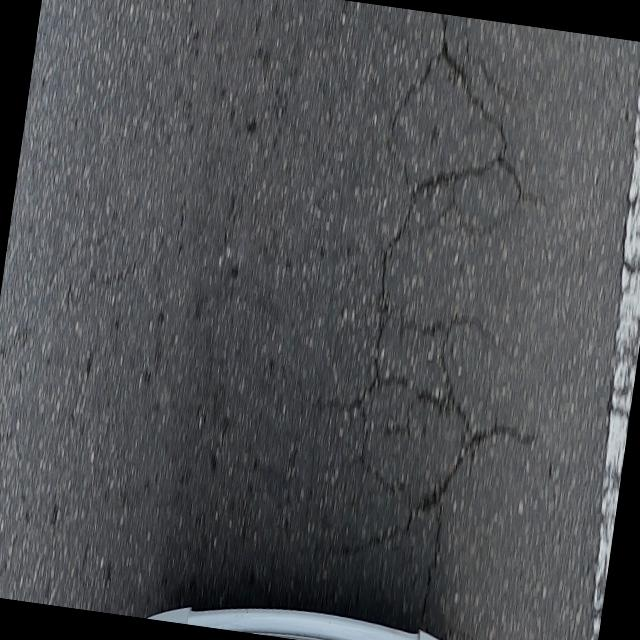Retak-Buaya: (340, 22, 533, 617)
